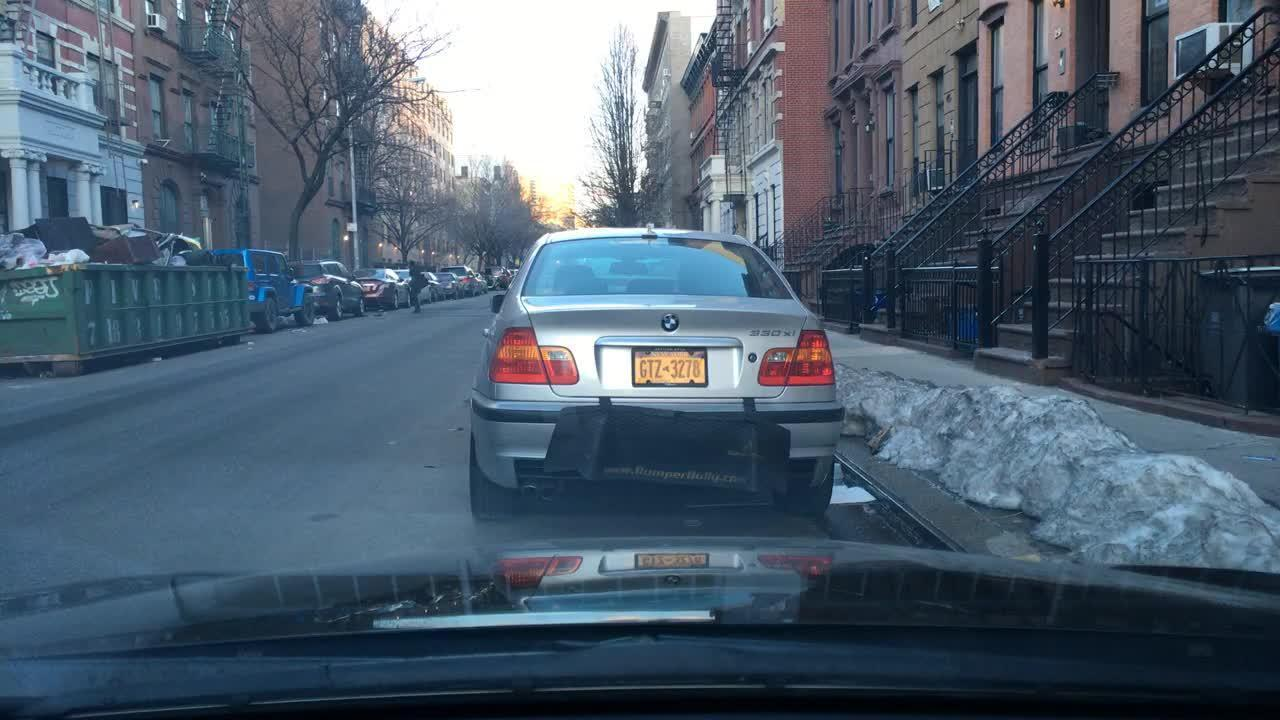bmw: (655, 306, 684, 343)
